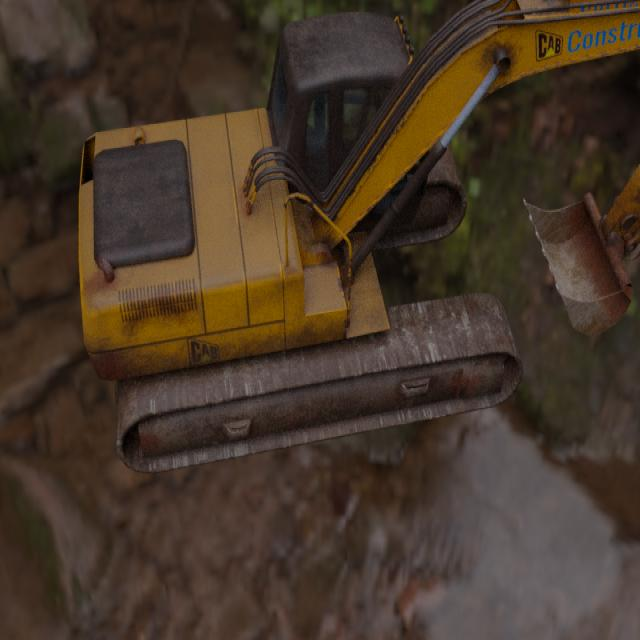excavator: (78, 0, 640, 475)
